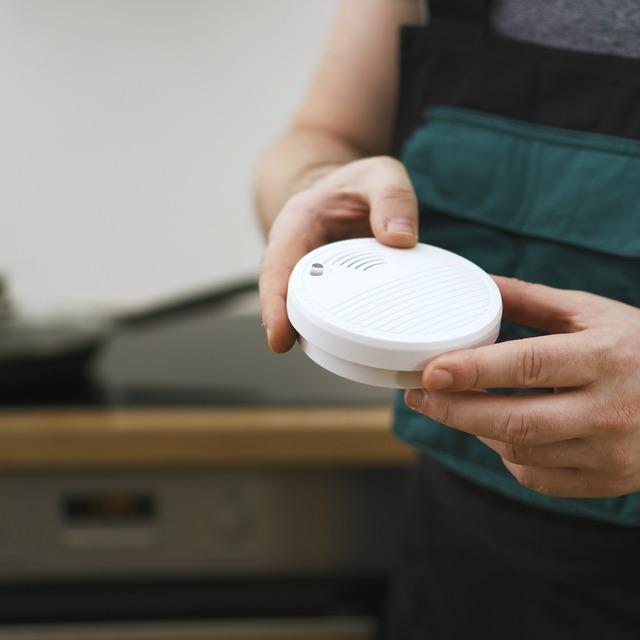Smoke-Detector: (290, 230, 502, 378)
